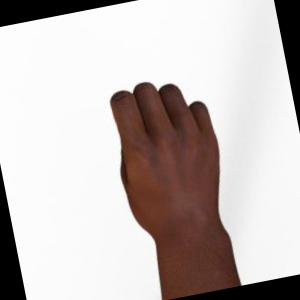rock: (110, 82, 240, 300)
